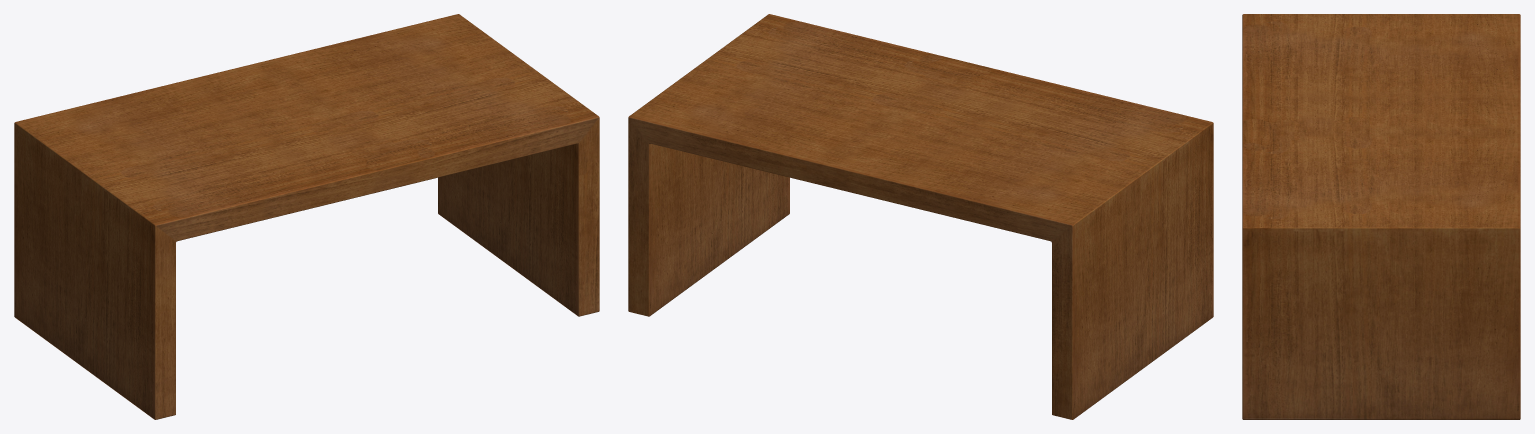
Rendered from abo_B07QC876Z6.glb.
3 renders of one model, left to right at view 1: azimuth 30°, elevation 25°; view 2: azimuth 150°, elevation 25°; view 3: azimuth 270°, elevation 25°, orthographic.
Visible parts, largest first — view 1: RootNode; view 2: RootNode; view 3: RootNode.
Boxes of the visible parts, x1,y1,x2,y2 form: RootNode: [14, 14, 599, 419]; RootNode: [628, 14, 1213, 419]; RootNode: [1242, 14, 1520, 419].
Bounding box in the file's own units: 0.9996 × 0.4193 × 0.5488.
1 material, 1 textured.
